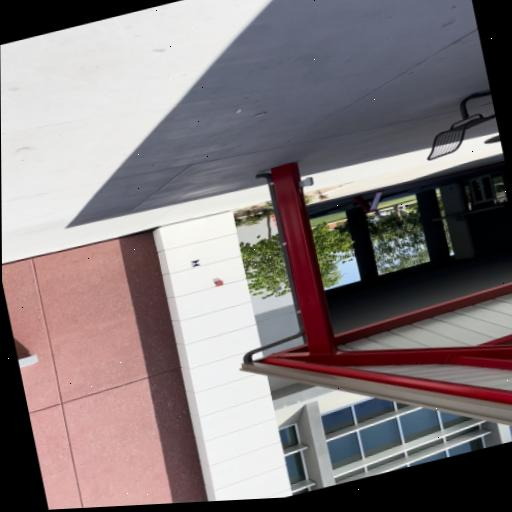target2: (190, 259, 201, 268)
